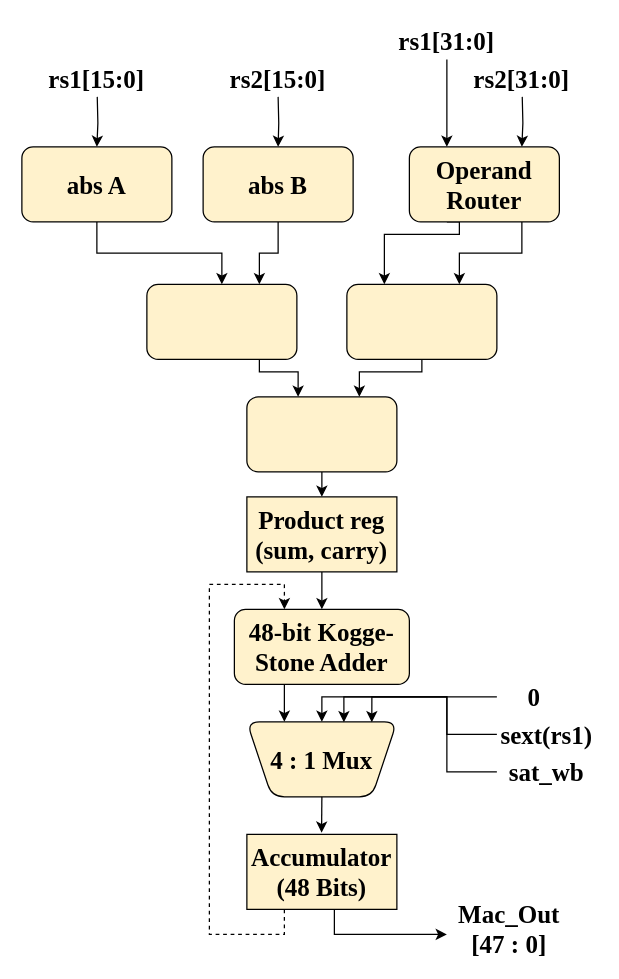
Image size: 619x979. Some labels were removed from this diagram. The centre of each missing label's shape, as x and y in pixels:
3 : 2 Compressor: point 321,434
Mult A 16 * 16: point 221,321
Mult B 16 * 16: point 421,321
